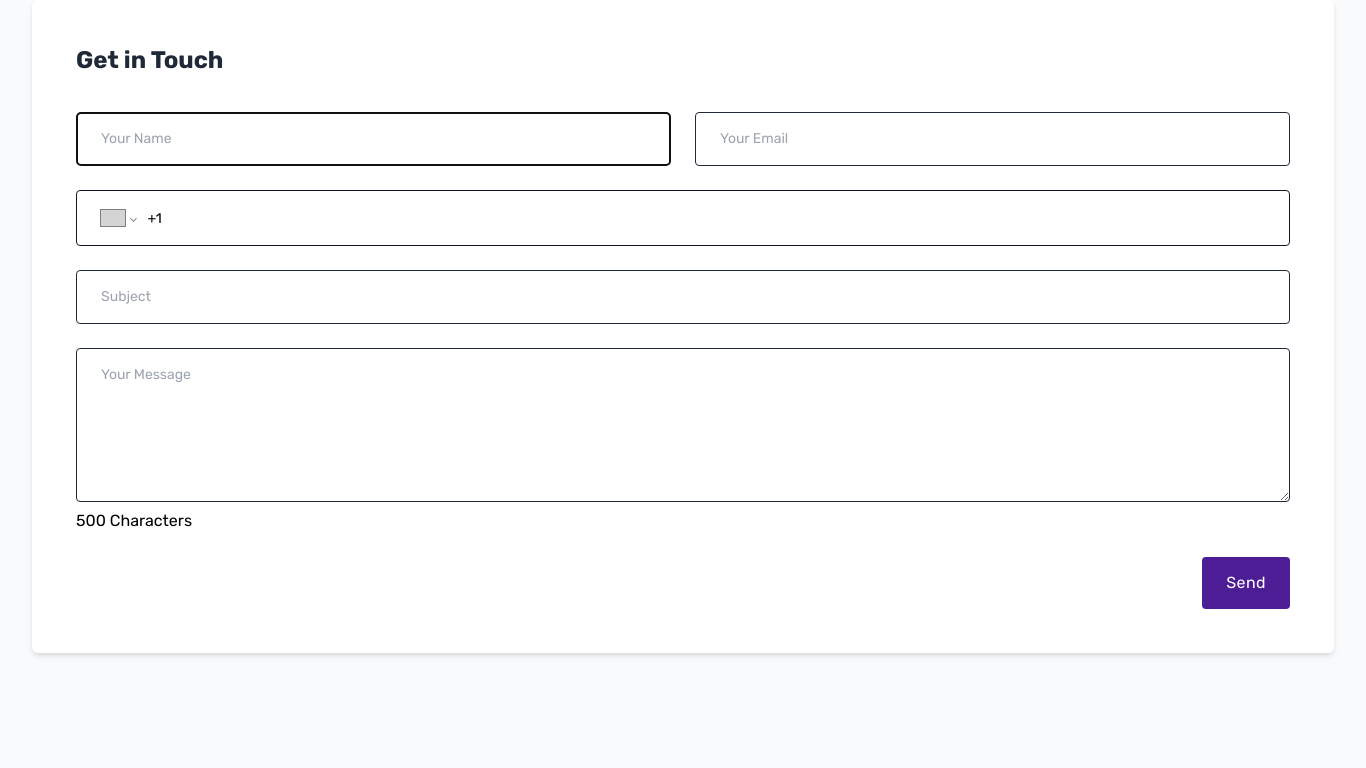
Contact Component › submits form successfully and opens modal
Type "John Doe" into the field with placeholder "Your Name" at (374, 139), box [76,112,671,166]
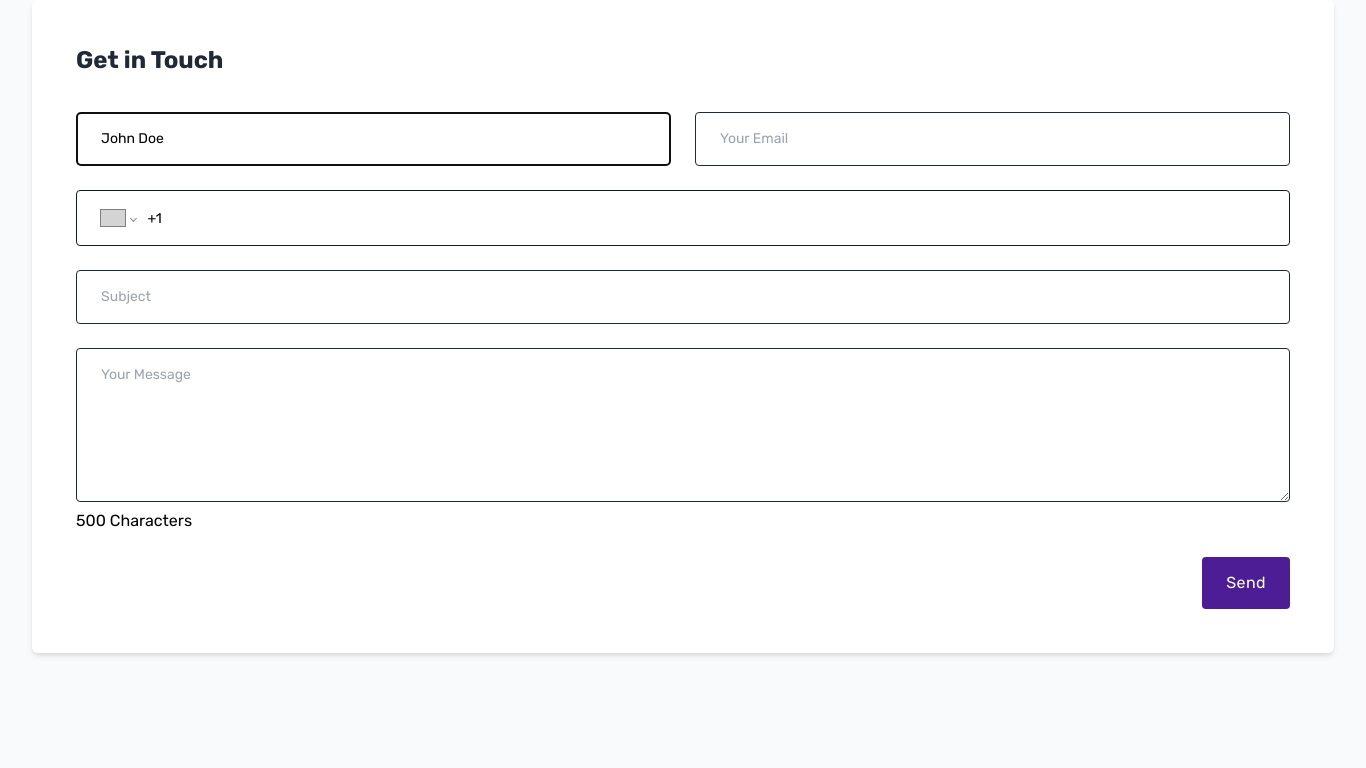
Type "john@example.com" into the field with placeholder "Your Email" at (992, 139), box [695,112,1290,166]
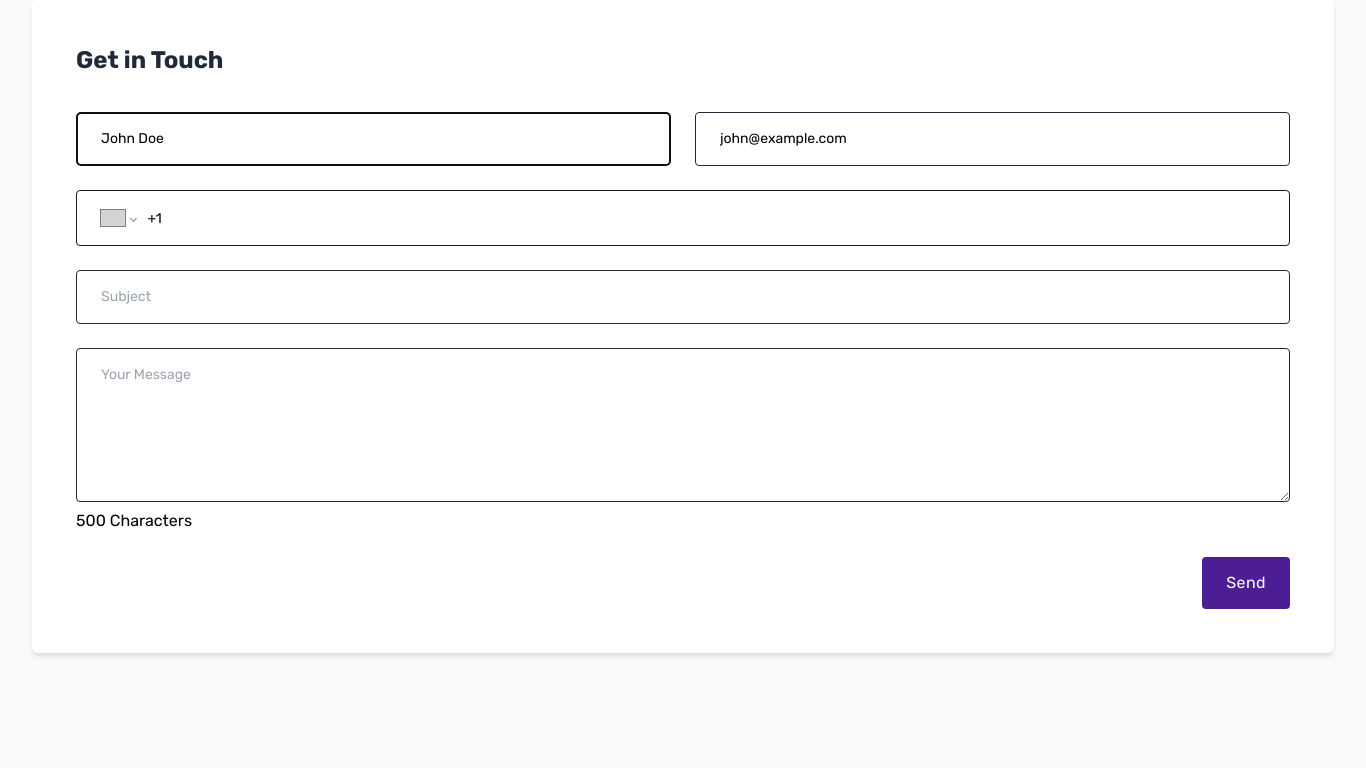
Replace the text in the field with placeholder "Phone Number" with "+12025550123" at (706, 218), box [147,208,1265,228]
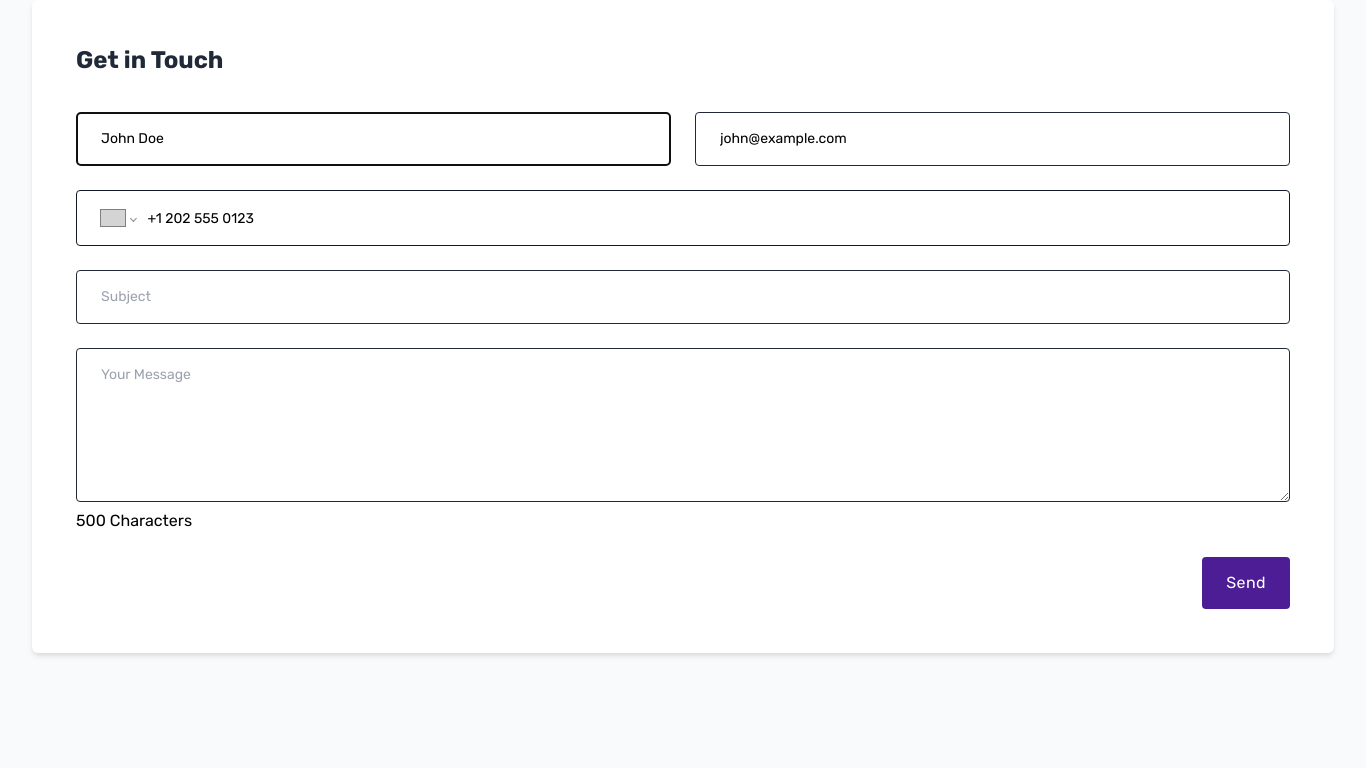
Type "Test Subject" into the field with placeholder "Subject" at (683, 297), box [76,270,1290,324]
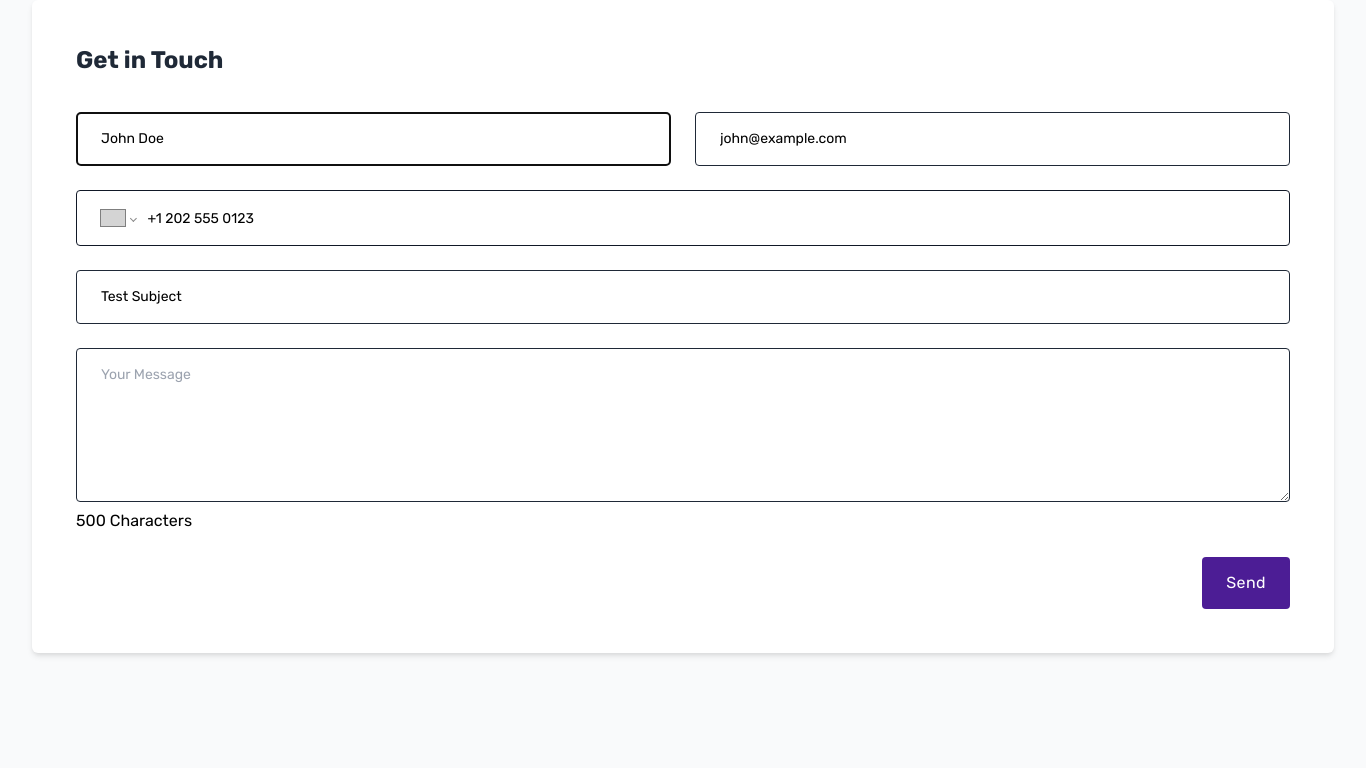
Type "Test Message" into the text box with placeholder "Your Message" at (683, 425), box [76,348,1290,502]
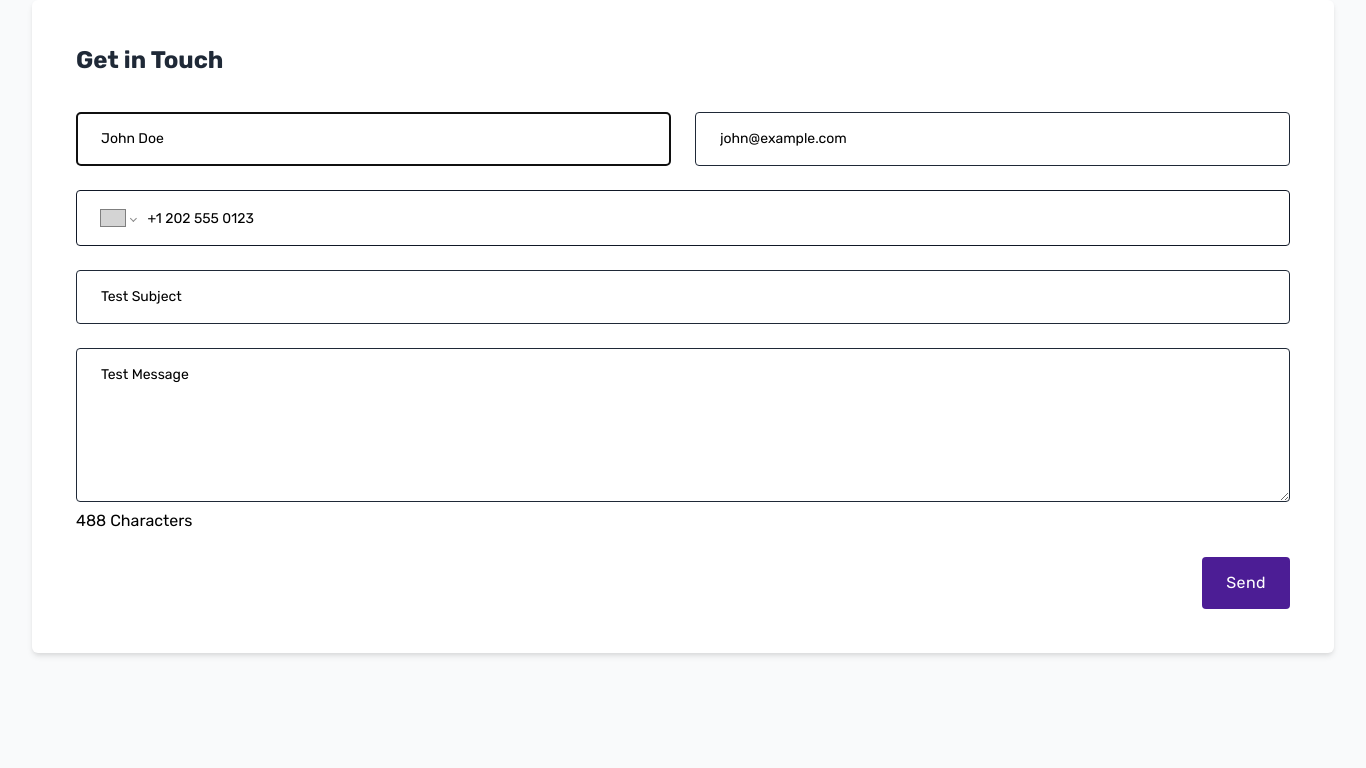
Click the button "Send" at (1246, 583), box [1202,557,1290,609]
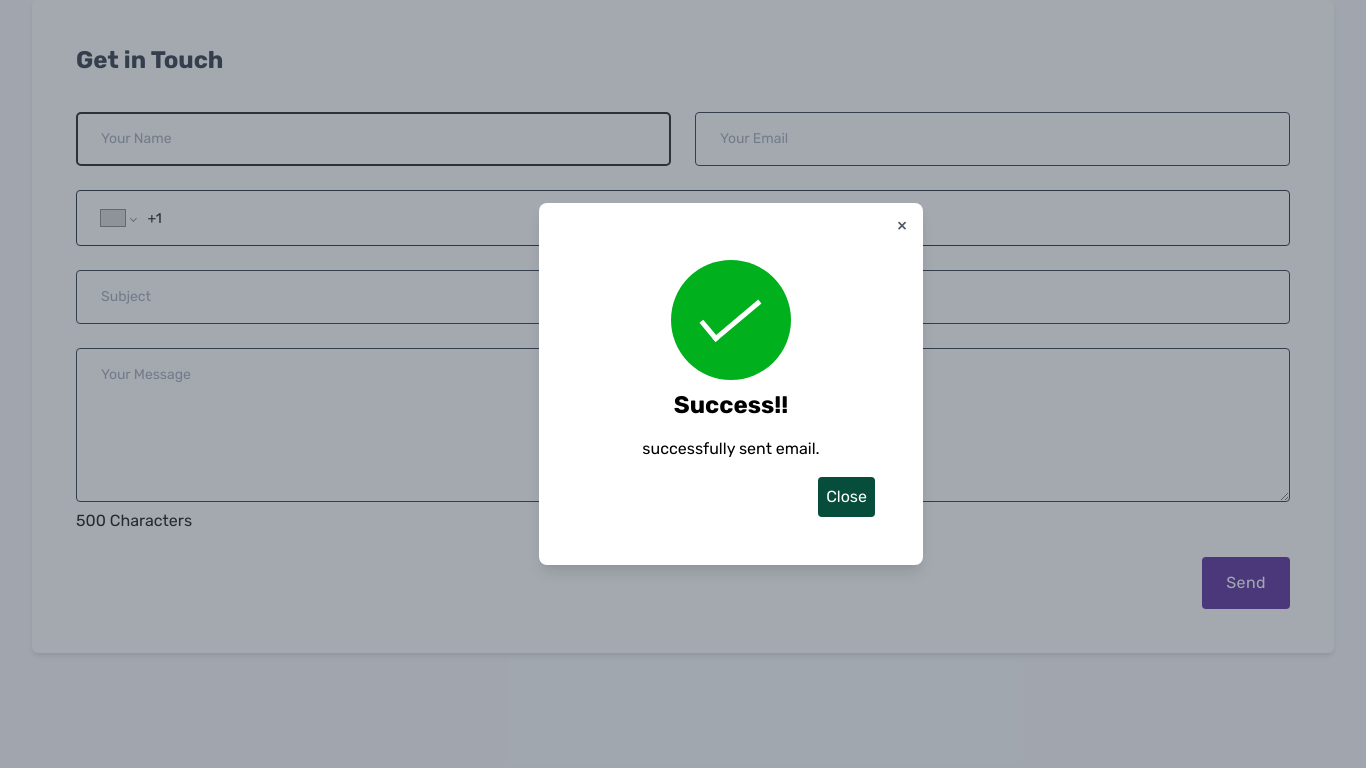
Expected: the heading "Success!!" is shown, [674,391,788,419]
Expected: the text "successfully sent email." is shown, [642,439,820,458]
